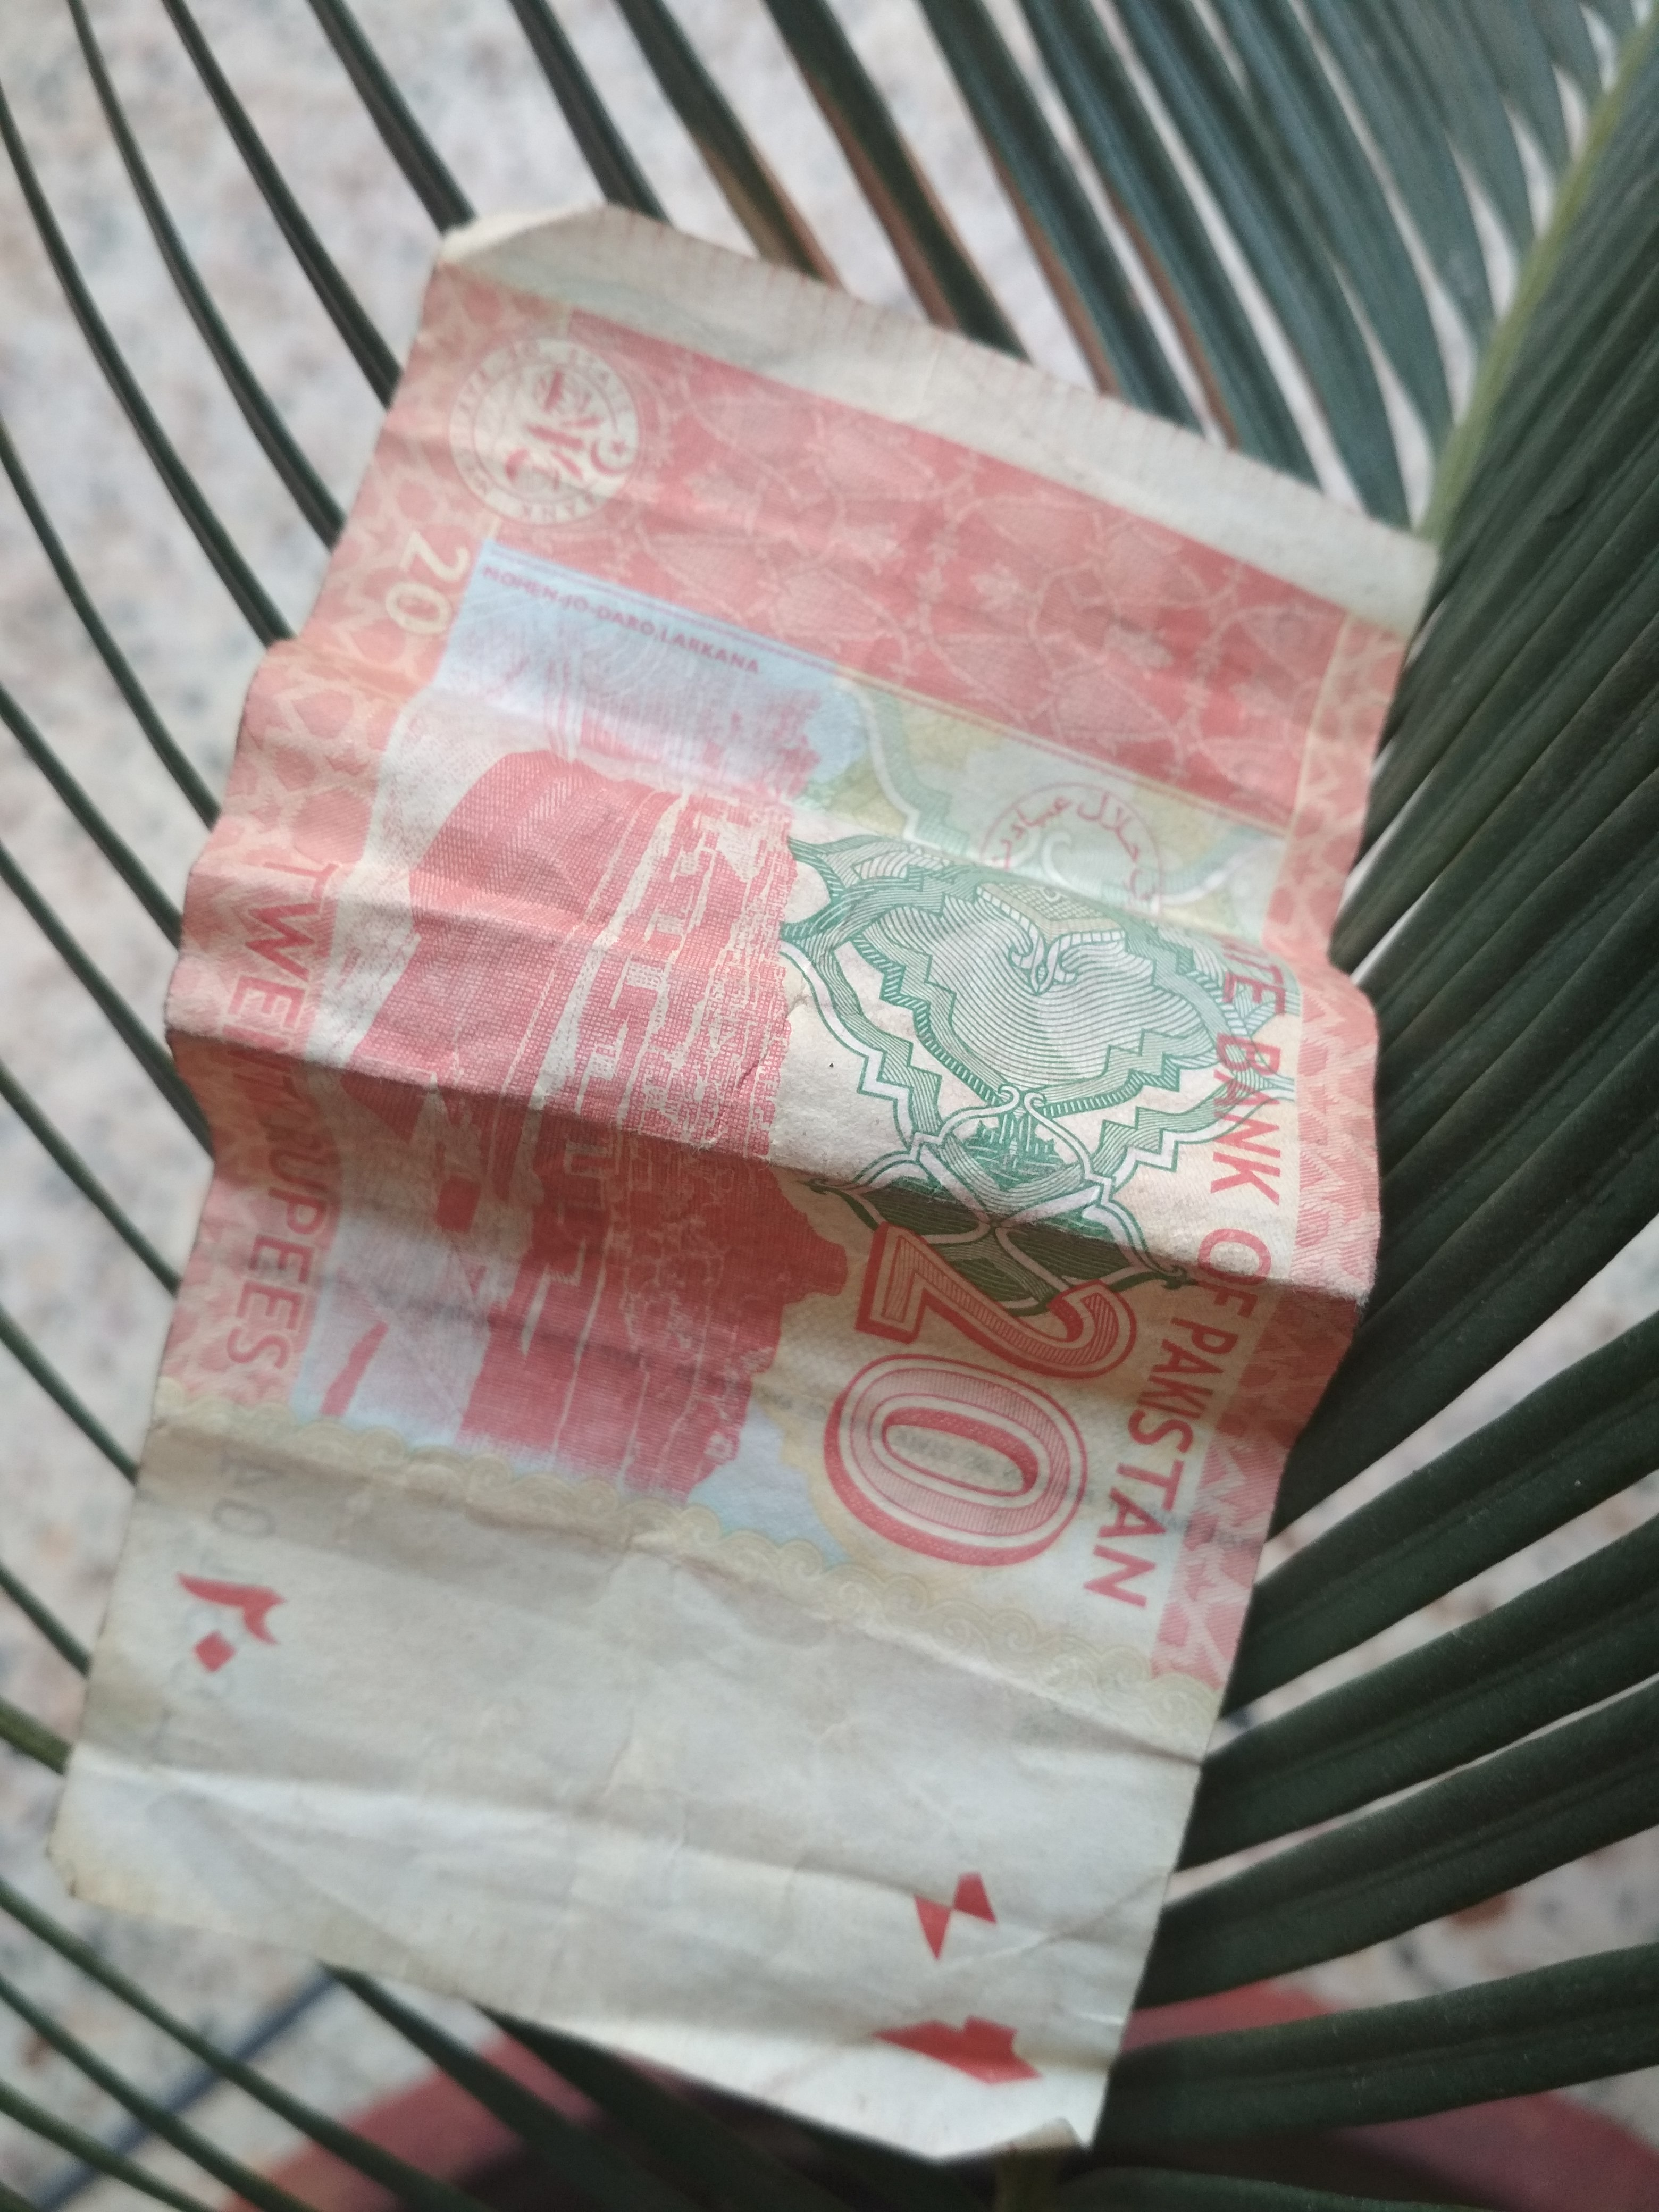20 rupee: (91, 160, 1417, 2099)
